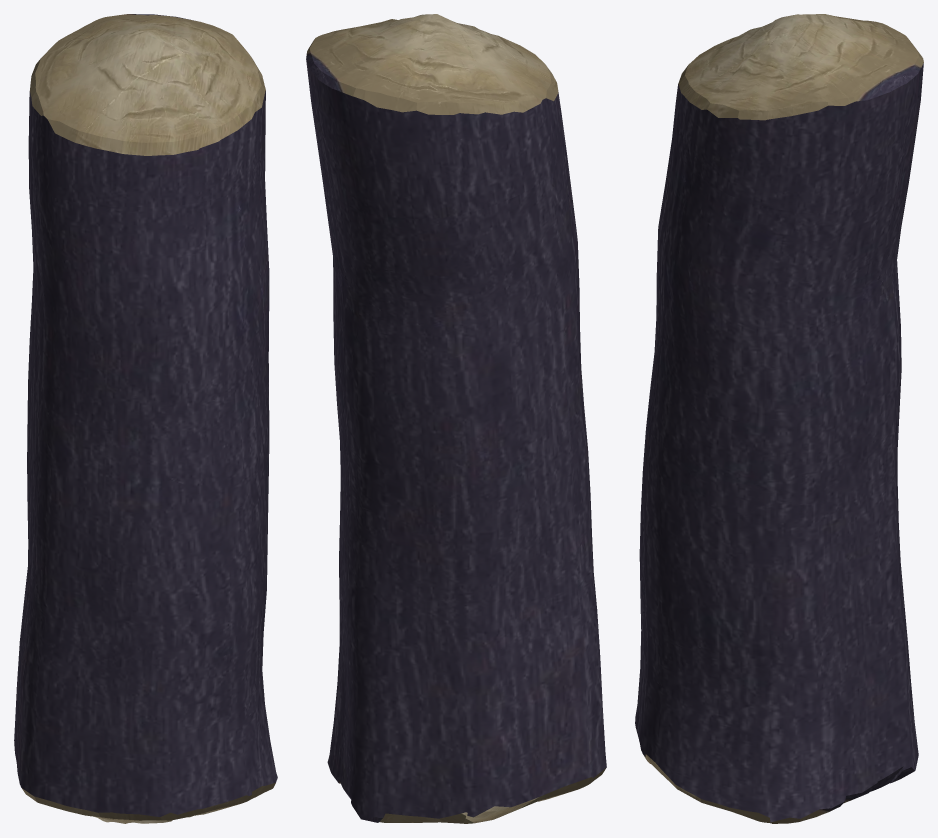
The picture shows the model from 3 angles, left to right: view 1: azimuth 30°, elevation 25°; view 2: azimuth 150°, elevation 25°; view 3: azimuth 270°, elevation 25°; orthographic projection. The views are drawn at different scales.
Visible parts, largest first — view 1: SM_FH_Oak_Tree_01_quarter_01_LOD0; view 2: SM_FH_Oak_Tree_01_quarter_01_LOD0; view 3: SM_FH_Oak_Tree_01_quarter_01_LOD0.
Boxes of the visible parts, x1,y1,x2,y2 form: SM_FH_Oak_Tree_01_quarter_01_LOD0: (14, 14, 277, 823); SM_FH_Oak_Tree_01_quarter_01_LOD0: (306, 14, 606, 823); SM_FH_Oak_Tree_01_quarter_01_LOD0: (635, 14, 923, 823).
Size of the model in its own units: 0.9167 by 2.79 by 0.9269.
Materials: 1 (1 with a texture image).
